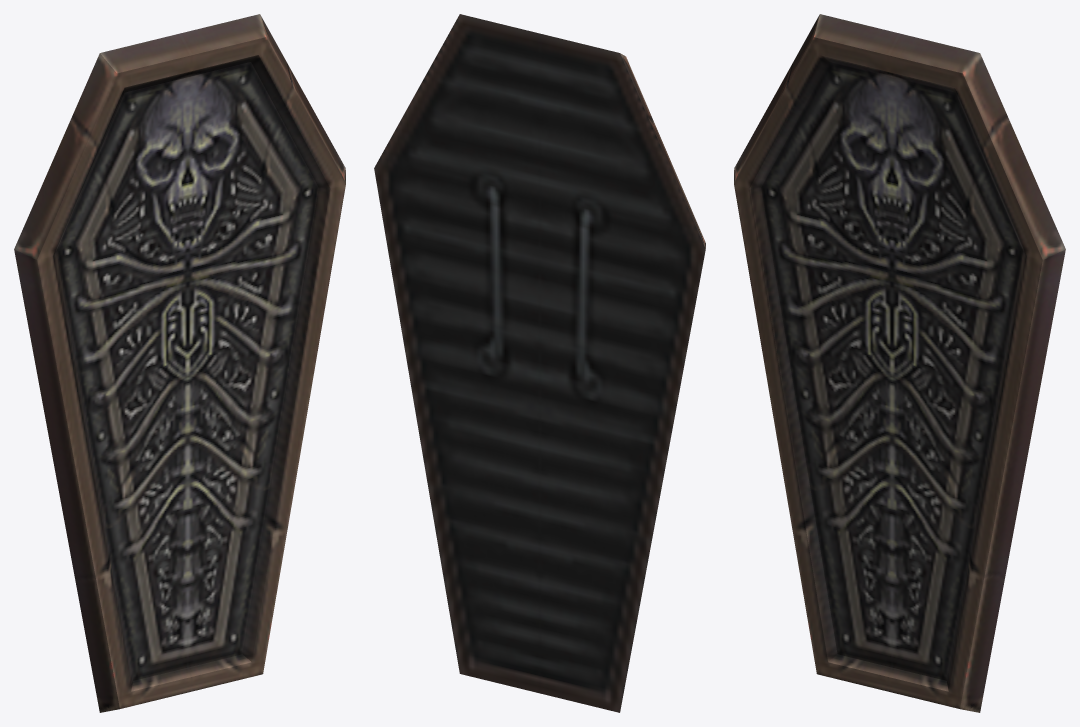
File: Shield21.FBX
3 views of the same model, side by side, from view 1: azimuth 30°, elevation 25°; view 2: azimuth 150°, elevation 25°; view 3: azimuth 330°, elevation 25° (orthographic).
Visible parts, largest first — view 1: Shield21; view 2: Shield21; view 3: Shield21.
Part boxes in pixels (box(x1,y1,x2,y2)): Shield21: box(14, 14, 345, 712); Shield21: box(374, 14, 705, 712); Shield21: box(734, 14, 1065, 712).
Size of the model in its own units: 54.09 by 103 by 3.28.
